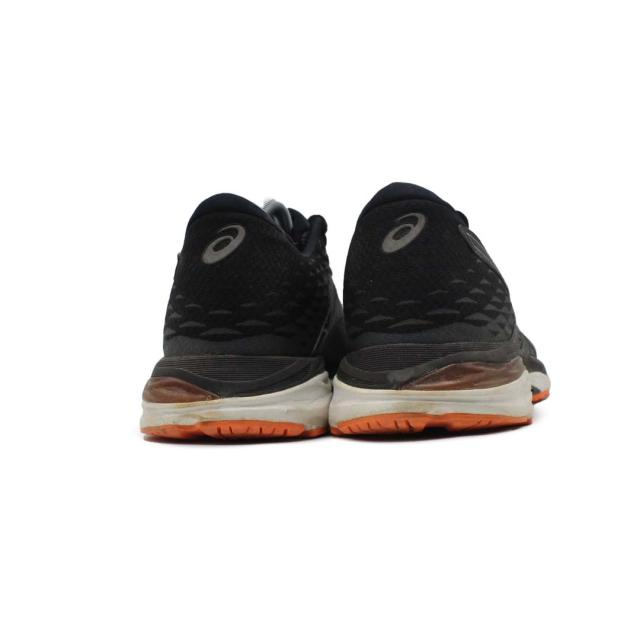heel: (338, 182, 516, 380), (171, 182, 323, 381)
midsole: (128, 372, 544, 438)
